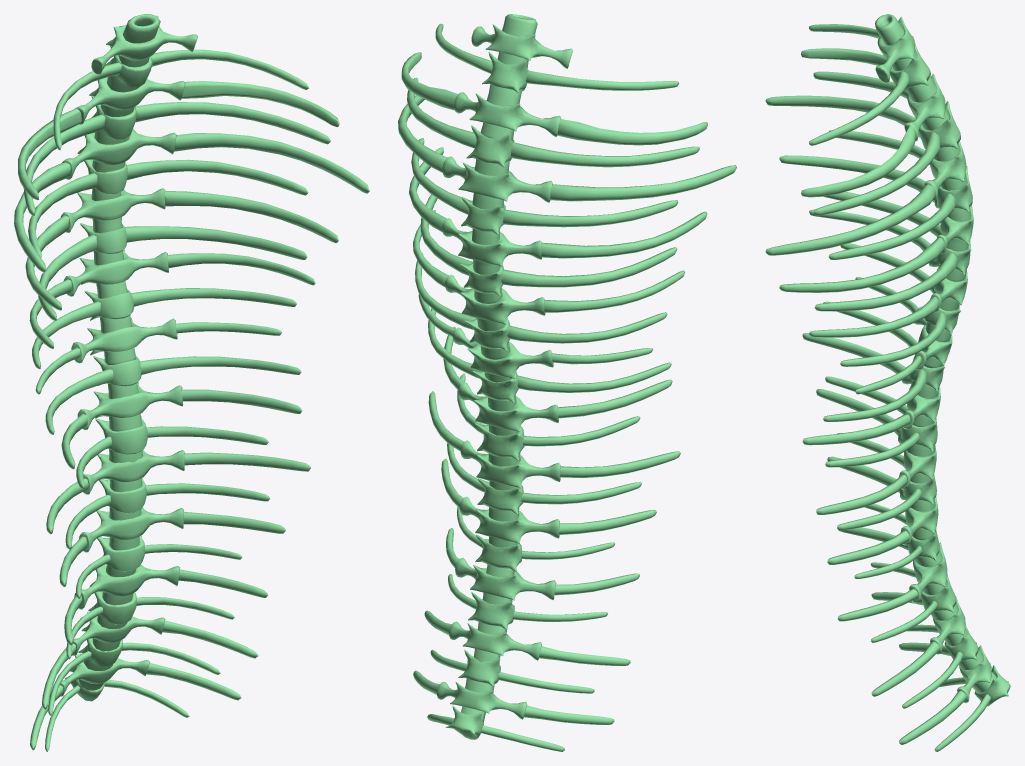
The model's file is Bone_002_2.FBX.
3 renders of one model, left to right at view 1: azimuth 30°, elevation 25°; view 2: azimuth 150°, elevation 25°; view 3: azimuth 270°, elevation 25°, orthographic. The views are drawn at different scales.
Visible parts, largest first — view 1: Bone_002_2_LOD0; view 2: Bone_002_2_LOD0; view 3: Bone_002_2_LOD0.
Part boxes in pixels (x1,y1,x2,y2): Bone_002_2_LOD0: [14, 14, 369, 751]; Bone_002_2_LOD0: [398, 14, 736, 751]; Bone_002_2_LOD0: [765, 14, 1010, 751].
Size of the model in its own units: 304 by 205 by 648.
